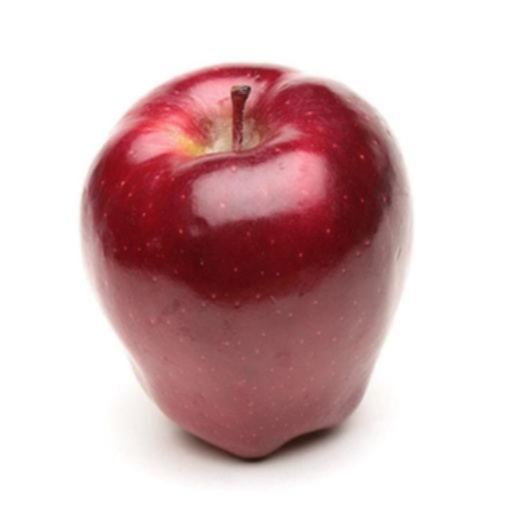fruit: (343, 120, 464, 442)
